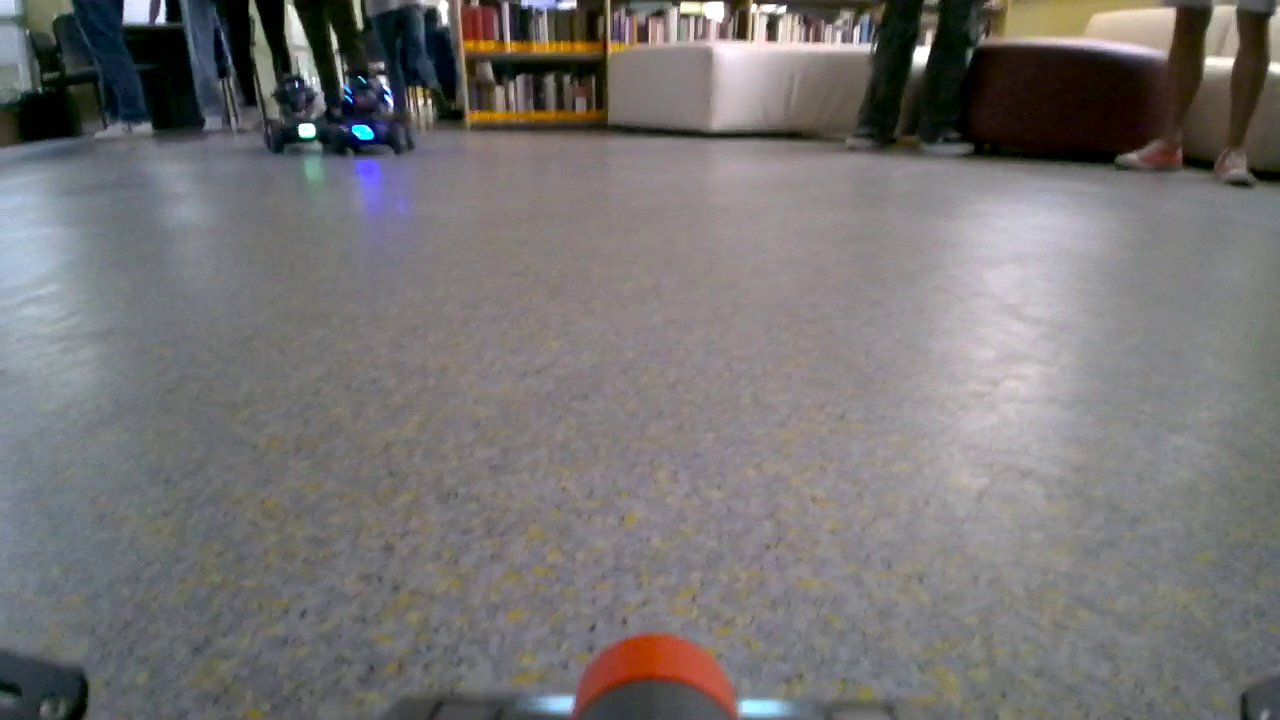robot: (328, 69, 415, 160), (260, 75, 330, 154)
